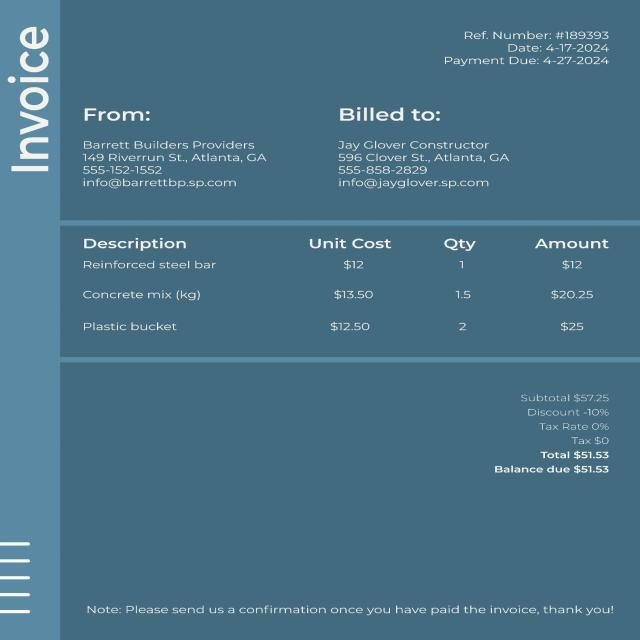paragraph: (84, 598, 628, 624), (330, 136, 570, 194), (477, 392, 615, 477), (76, 138, 267, 198), (4, 18, 59, 174), (444, 29, 612, 69), (339, 105, 448, 126), (83, 108, 154, 124)
table: (61, 226, 640, 358)
